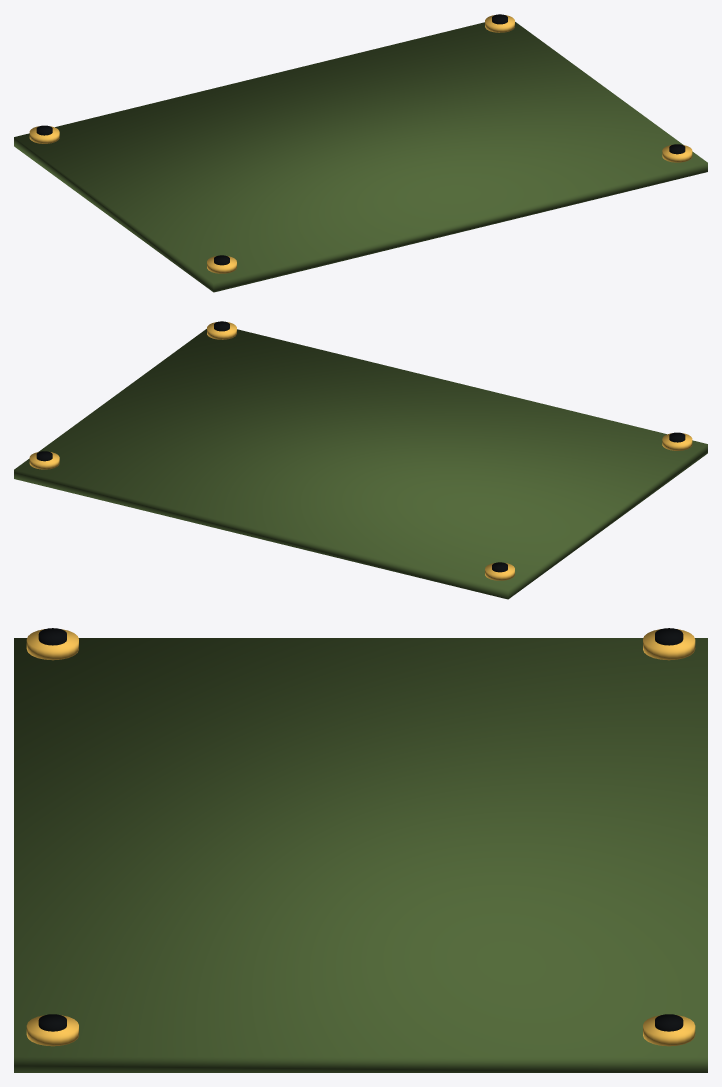
The model's file is 08_L94_FR4BoardSubstrate.fbx.
The picture shows the model from 3 angles, top to bottom: view 1: azimuth 30°, elevation 25°; view 2: azimuth 150°, elevation 25°; view 3: azimuth 270°, elevation 25°; orthographic projection. The views are drawn at different scales.
Visible parts, largest first — view 1: L94_FR4BoardSubstrate; view 2: L94_FR4BoardSubstrate; view 3: L94_FR4BoardSubstrate.
Part boxes in pixels (x1=…): L94_FR4BoardSubstrate: x1=14, y1=14, x2=707, y2=292; L94_FR4BoardSubstrate: x1=14, y1=321, x2=707, y2=599; L94_FR4BoardSubstrate: x1=14, y1=628, x2=707, y2=1072.
Bounding box in the file's own units: 140 × 5.65 × 98.
